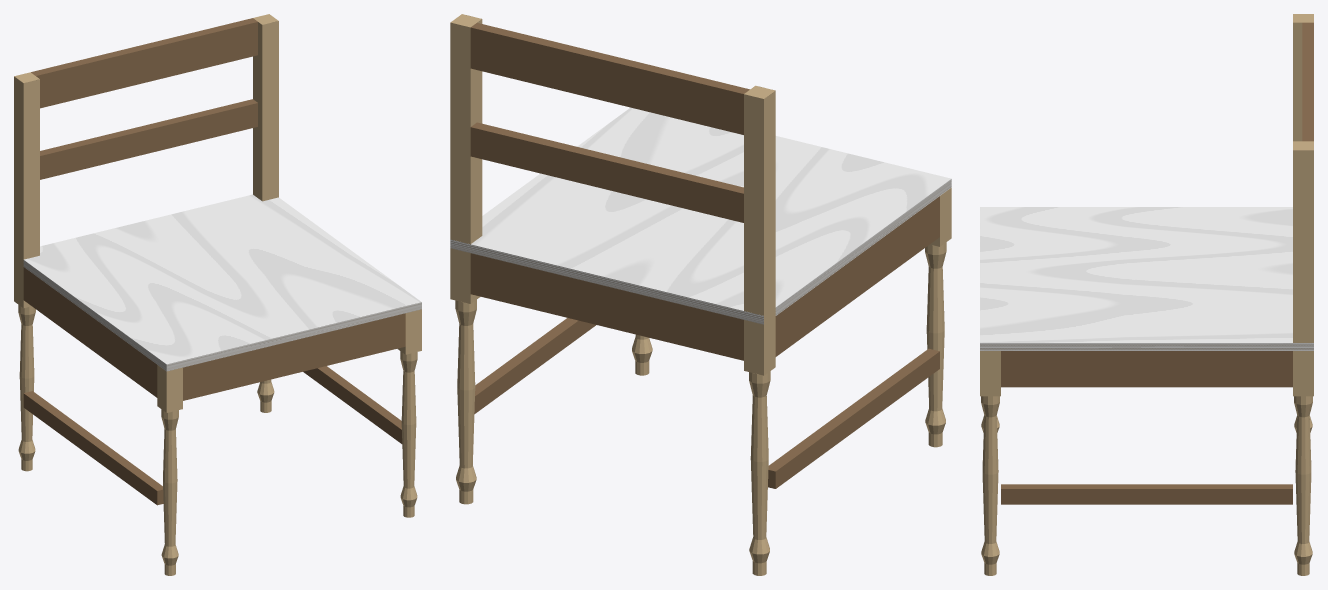
Rendered from BIB-ACC-std.glb.
3 views of the same model, side by side, from view 1: azimuth 30°, elevation 25°; view 2: azimuth 150°, elevation 25°; view 3: azimuth 270°, elevation 25° (orthographic). The views are drawn at different scales.
Visible parts, largest first — view 1: seat:sheet:eyJtIjoicGx5Iiwic2lkZSI6ImZhY2UiLCJzZWVkIjo2LCJ2Z, back-top:pbr, rail-f:pbr, leg-bl:pbr, back-mid:pbr, leg-br:pbr, rail-l:pbr, leg-fl:pbr, stretcher-l:pbr, leg-fr:pbr, stretcher-r:pbr, seat:sheet:eyJtIjoicGx5Iiwic2lkZSI6ImVkZ2UtZW5kIiwic2VlZCI6N (+1 smaller); view 2: seat:sheet:eyJtIjoicGx5Iiwic2lkZSI6ImZhY2UiLCJzZWVkIjo2LCJ2Z, back-top:pbr, leg-bl:pbr, rail-b:pbr, leg-br:pbr, back-mid:pbr, rail-l:pbr, stretcher-l:pbr, leg-fl:pbr, stretcher-r:pbr, seat:sheet:eyJtIjoicGx5Iiwic2lkZSI6ImVkZ2UtZW5kIiwic2VlZCI6N, seat:sheet:eyJtIjoicGx5Iiwic2lkZSI6ImVkZ2UtbG9uZyIsInNlZWQiO (+1 smaller); view 3: seat:sheet:eyJtIjoicGx5Iiwic2lkZSI6ImZhY2UiLCJzZWVkIjo2LCJ2Z, rail-r:pbr, leg-br:pbr, stretcher-r:pbr, leg-fr:pbr, seat:sheet:eyJtIjoicGx5Iiwic2lkZSI6ImVkZ2UtbG9uZyIsInNlZWQiO, leg-bl:pbr, back-top:pbr.
Boxes of the visible parts, x1,y1,x2,y2 form: seat:sheet:eyJtIjoicGx5Iiwic2lkZSI6ImZhY2UiLCJzZWVkIjo2LCJ2Z: [24, 194, 421, 364]; back-top:pbr: [31, 18, 257, 108]; rail-f:pbr: [183, 313, 405, 400]; leg-bl:pbr: [14, 72, 39, 471]; back-mid:pbr: [40, 99, 257, 179]; leg-br:pbr: [253, 14, 278, 412]; rail-l:pbr: [23, 267, 157, 397]; leg-fl:pbr: [157, 365, 182, 575]; stretcher-l:pbr: [23, 391, 163, 505]; leg-fr:pbr: [397, 309, 421, 517]; stretcher-r:pbr: [303, 366, 402, 443]; seat:sheet:eyJtIjoicGx5Iiwic2lkZSI6ImVkZ2UtZW5kIiwic2VlZCI6N: [166, 302, 421, 371]; seat:sheet:eyJtIjoicGx5Iiwic2lkZSI6ImZhY2UiLCJzZWVkIjo2LCJ2Z: [471, 107, 950, 310]; back-top:pbr: [470, 23, 749, 134]; leg-bl:pbr: [744, 85, 775, 575]; rail-b:pbr: [470, 253, 743, 360]; leg-br:pbr: [450, 14, 482, 504]; back-mid:pbr: [470, 122, 743, 222]; rail-l:pbr: [775, 196, 939, 356]; stretcher-l:pbr: [768, 348, 939, 488]; leg-fl:pbr: [925, 187, 951, 447]; stretcher-r:pbr: [474, 318, 595, 414]; seat:sheet:eyJtIjoicGx5Iiwic2lkZSI6ImVkZ2UtZW5kIiwic2VlZCI6N: [450, 239, 763, 324]; seat:sheet:eyJtIjoicGx5Iiwic2lkZSI6ImVkZ2UtbG9uZyIsInNlZWQiO: [775, 179, 951, 315]; seat:sheet:eyJtIjoicGx5Iiwic2lkZSI6ImZhY2UiLCJzZWVkIjo2LCJ2Z: [980, 207, 1292, 342]; rail-r:pbr: [1001, 351, 1292, 387]; leg-br:pbr: [1293, 141, 1313, 575]; stretcher-r:pbr: [1001, 484, 1292, 504]; leg-fr:pbr: [980, 351, 1000, 575]; seat:sheet:eyJtIjoicGx5Iiwic2lkZSI6ImVkZ2UtbG9uZyIsInNlZWQiO: [980, 343, 1313, 350]; leg-bl:pbr: [1293, 14, 1313, 432]; back-top:pbr: [1302, 22, 1313, 141].
Bounding box in the file's own units: 0.5601 × 0.82 × 0.58.
Materials: 15 (3 with a texture image).
